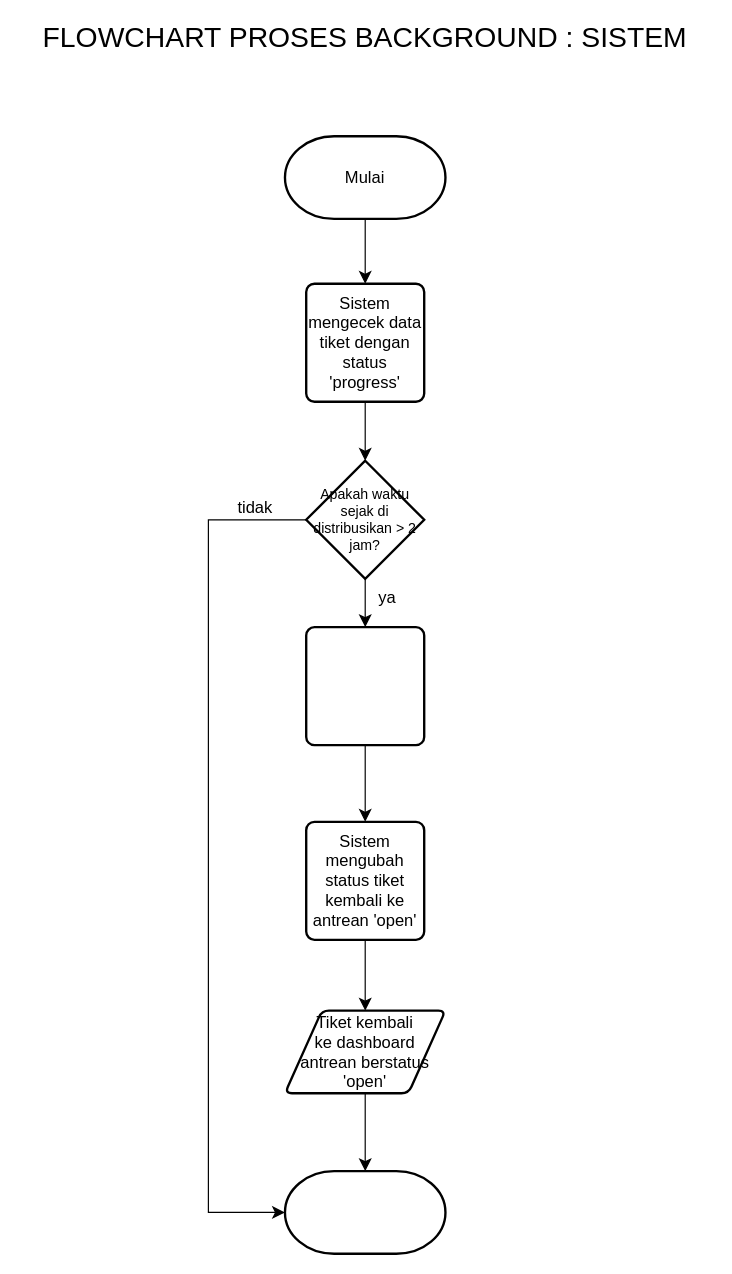
This 732x1274 diagram has some shape labels left out. The shapes that lost their labels are listed below. From the top down, each one's centre as x and y in pixels, then its label:
the point at 364,685: Sistem menarik tugas secara otomatis
the point at 364,1211: Selesai
